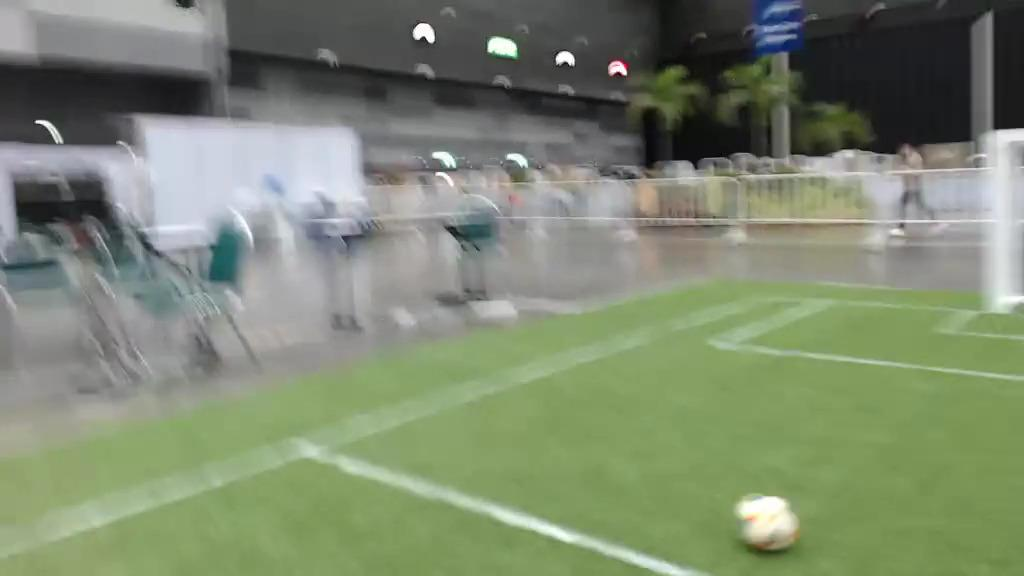ball: (700, 478, 816, 562)
